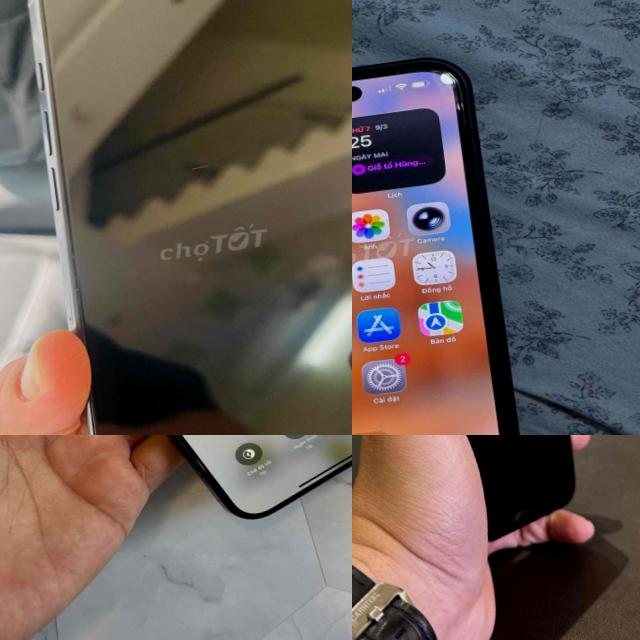gen_12_13: (404, 435, 596, 551)
gen_14: (352, 43, 549, 435)
gen_15: (0, 435, 352, 546)
gen_16: (31, 0, 352, 435)
